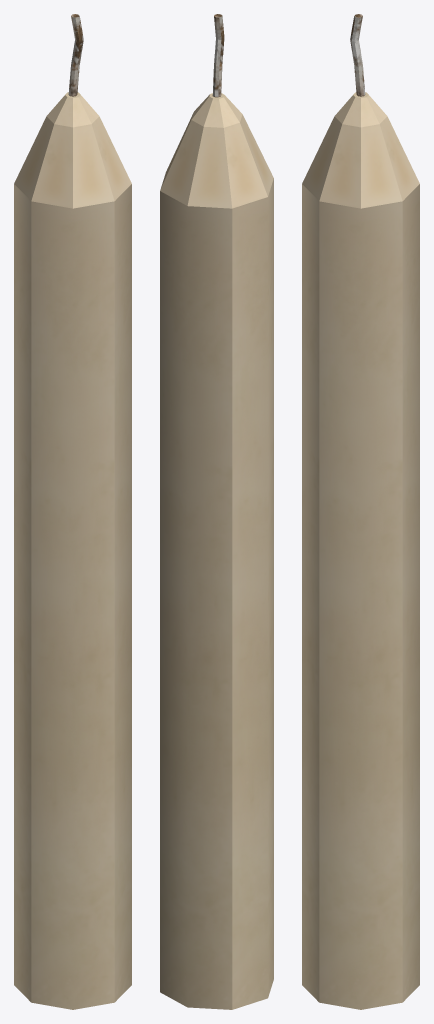
Rendered from fbx_Vela1.fbx.
The picture shows the model from 3 angles, left to right: view 1: azimuth 90°, elevation 25°; view 2: azimuth 150°, elevation 25°; view 3: azimuth 270°, elevation 25°; orthographic projection.
Parts seen in each view (by area): view 1: pCube14; view 2: pCube14; view 3: pCube14.
Boxes of the visible parts, left/top/right/bottom form: pCube14: left=14, top=14, right=131, bottom=1009; pCube14: left=160, top=14, right=273, bottom=1009; pCube14: left=302, top=14, right=419, bottom=1009.
Bounding box in the file's own units: 0.02 × 0.1814 × 0.02.
Materials: 1 (1 with a texture image).
